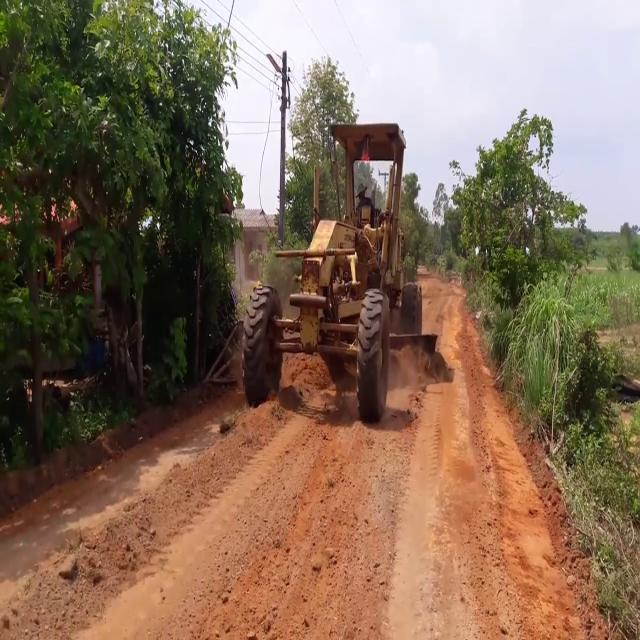buldozerpayloadergrader: (240, 118, 438, 427)
